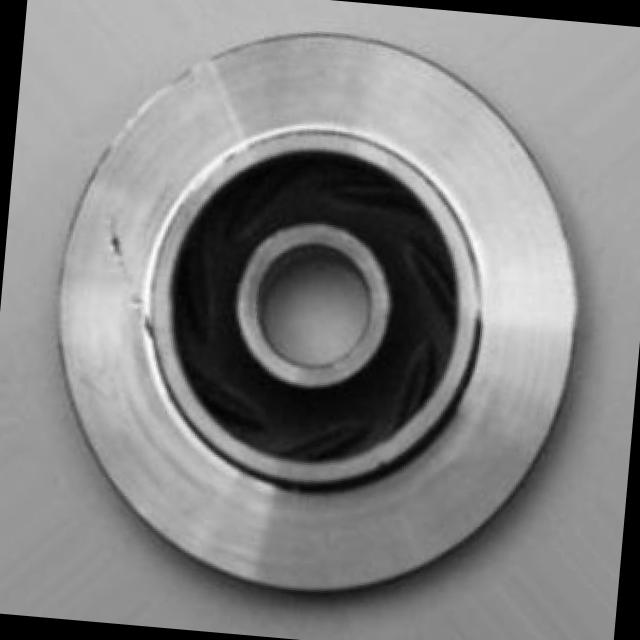Defect: (104, 220, 138, 262)
